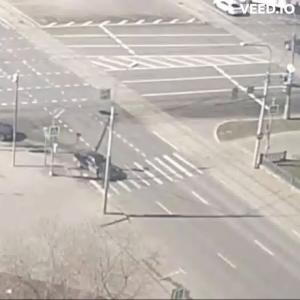car: (75, 148, 126, 183), (215, 1, 245, 16)
